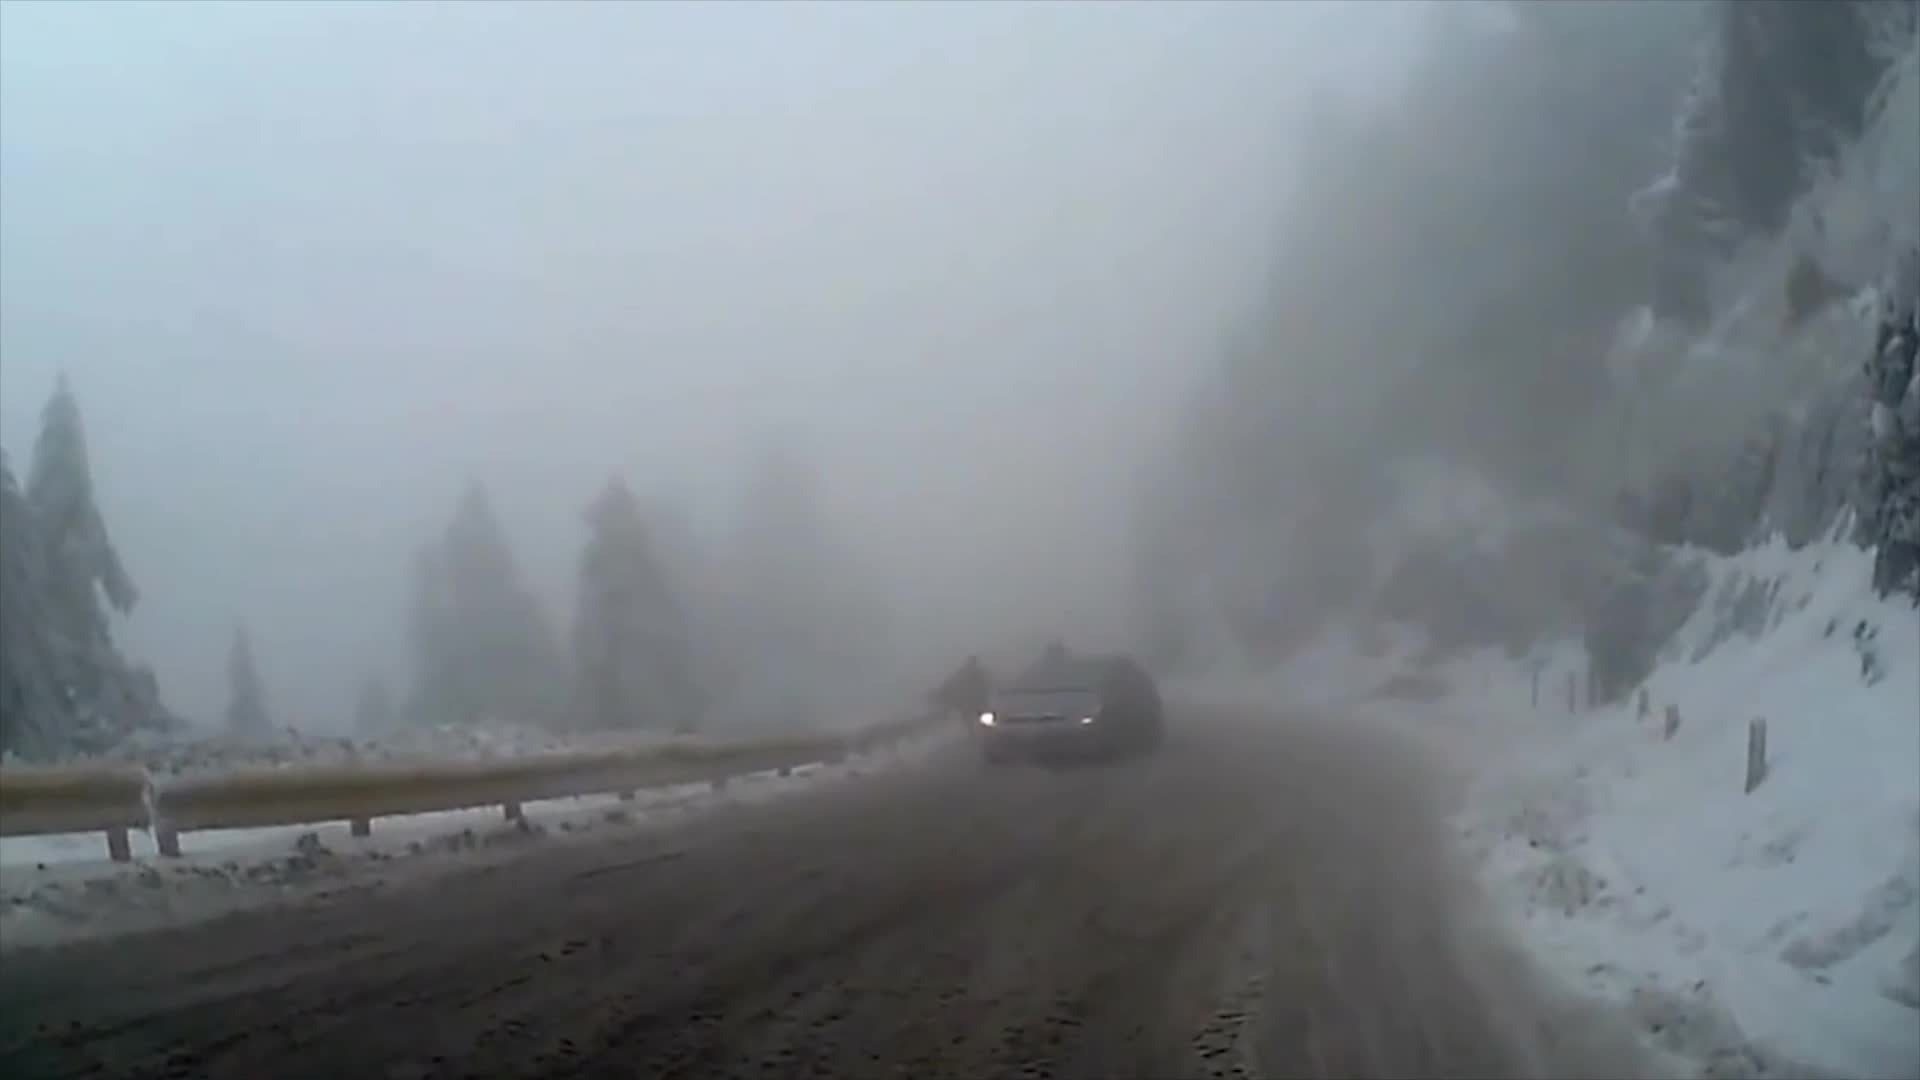vehicle: (975, 651, 1164, 767)
